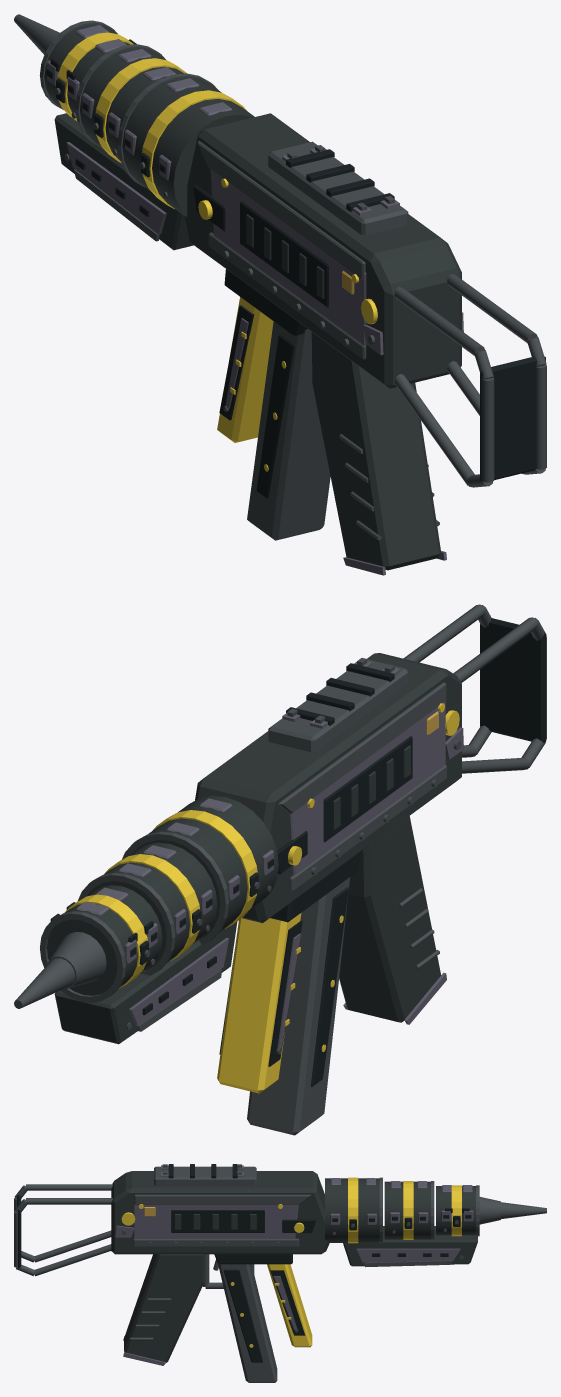
Rendered from smg_4.glb.
3 views of the same model, one above another, from view 1: azimuth 30°, elevation 25°; view 2: azimuth 150°, elevation 25°; view 3: azimuth 270°, elevation 25° (orthographic). The views are drawn at different scales.
Visible parts, largest first — view 1: Weapon_smg_v1; view 2: Weapon_smg_v1; view 3: Weapon_smg_v1.
Part boxes in pixels (left/top/right/bottom): Weapon_smg_v1: left=14, top=14, right=546, bottom=575; Weapon_smg_v1: left=14, top=604, right=546, bottom=1135; Weapon_smg_v1: left=14, top=1164, right=546, bottom=1382.
Size of the model in its own units: 0.084 by 0.2695 by 0.624.
